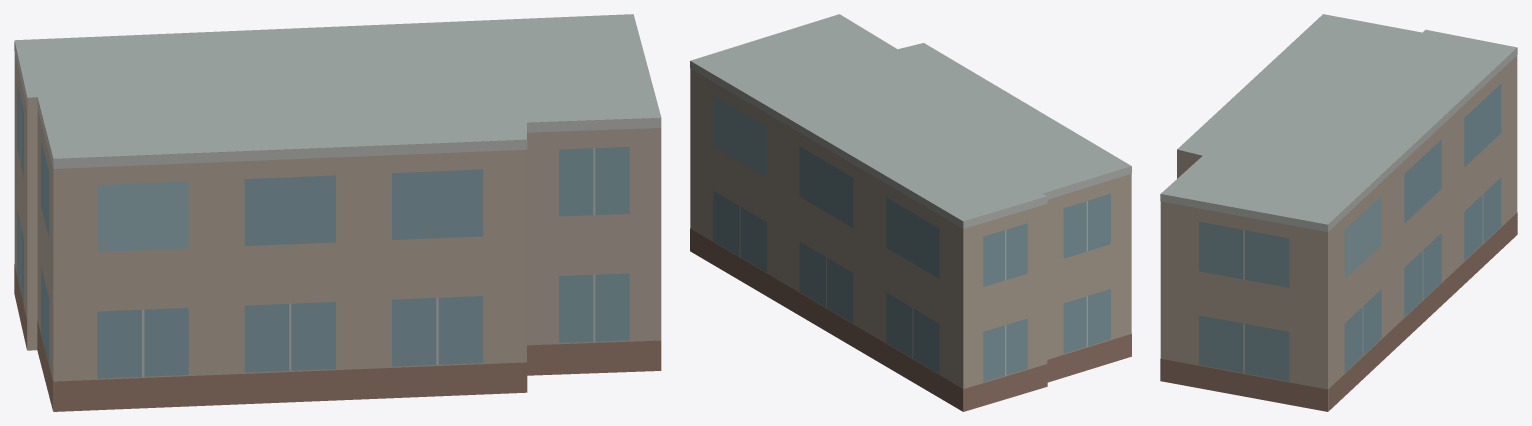
File: survey-upis-32928283.glb
3 views of the same model, side by side, from view 1: azimuth 30°, elevation 25°; view 2: azimuth 150°, elevation 25°; view 3: azimuth 270°, elevation 25° (orthographic). The views are drawn at different scales.
Parts seen in each view (by area): view 1: survey-upis-32928283.tmp; view 2: survey-upis-32928283.tmp; view 3: survey-upis-32928283.tmp.
Boxes of the visible parts, left/top/right/bottom form: survey-upis-32928283.tmp: left=14, top=14, right=661, bottom=411; survey-upis-32928283.tmp: left=690, top=14, right=1131, bottom=411; survey-upis-32928283.tmp: left=1160, top=14, right=1517, bottom=411.
Size of the model in its own units: 14.73 by 6.1 by 10.55.
